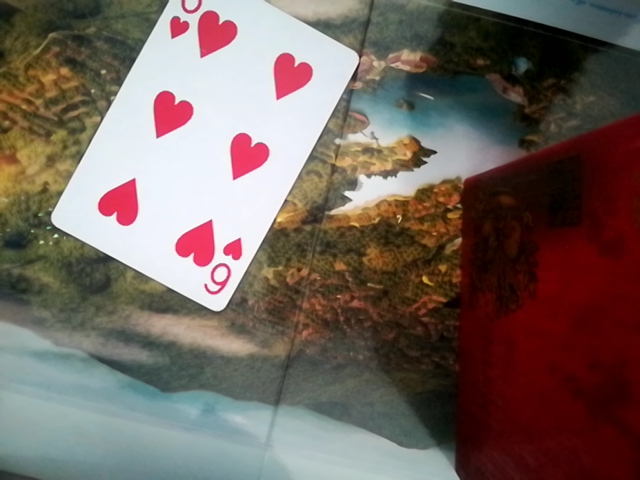hx 6: (46, 0, 357, 317)
